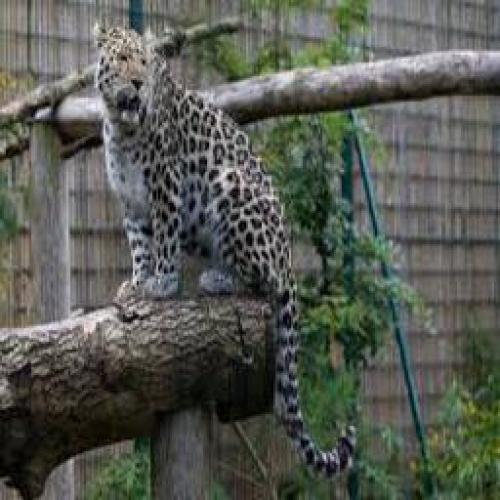amur_leopard-endangered: (92, 22, 356, 478)
